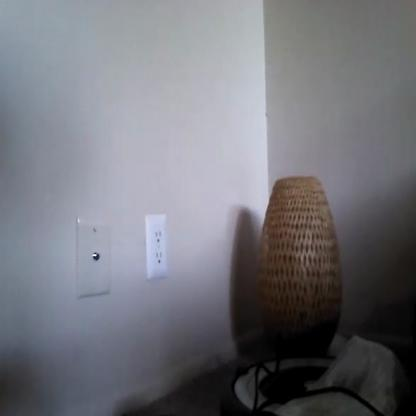OUTLET: (144, 214, 166, 278)
